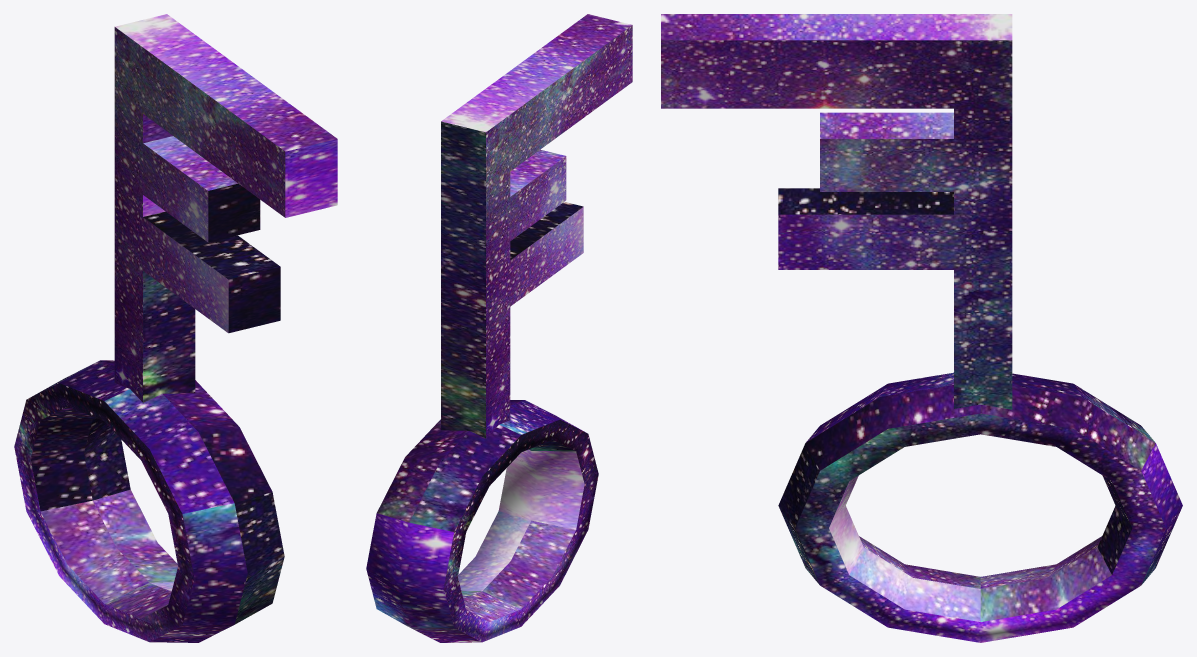
File: Key.FBX
3 views of the same model, side by side, from view 1: azimuth 30°, elevation 25°; view 2: azimuth 150°, elevation 25°; view 3: azimuth 270°, elevation 25° (orthographic). The views are drawn at different scales.
Parts seen in each view (by area): view 1: Key; view 2: Key; view 3: Key.
Boxes of the visible parts, box(x1,y1,x2,y2) form: Key: box(14, 14, 337, 642); Key: box(366, 14, 632, 642); Key: box(661, 14, 1182, 642).
Bounding box in the file's own units: 0.2657 × 1.66 × 1.29.
Materials: 1 (1 with a texture image).
